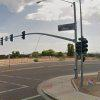Traffic light: (64, 30, 100, 74)
